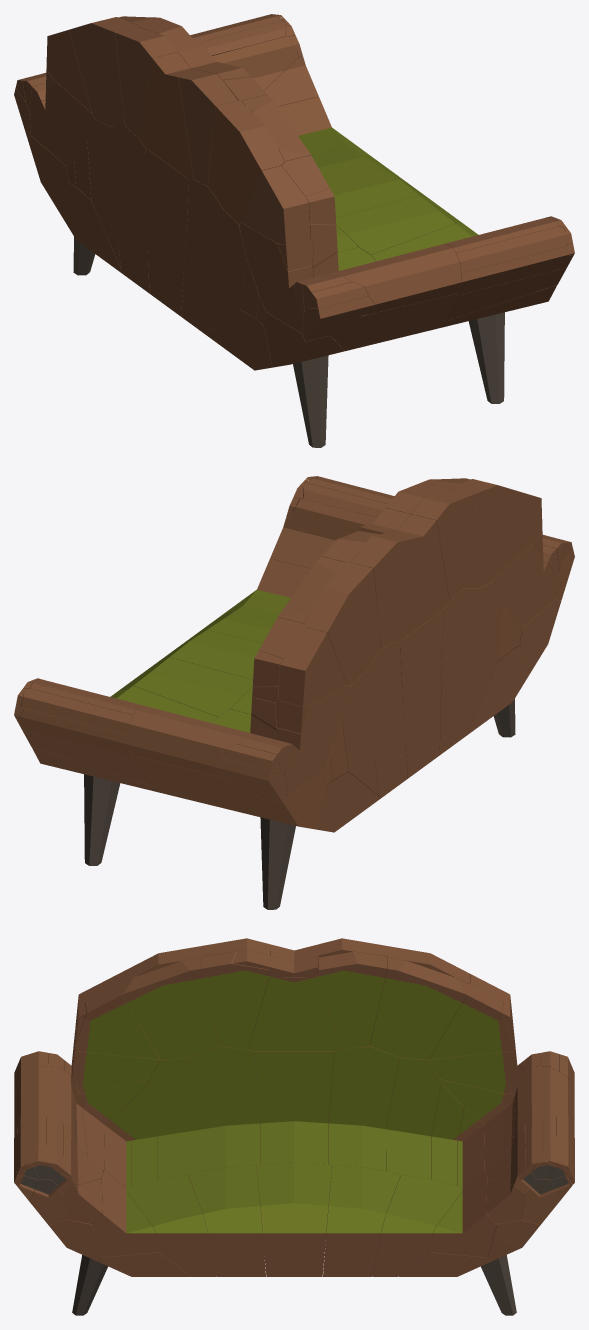
Rendered from couch-pieces.fbx.
3 renders of one model, top to bottom at view 1: azimuth 30°, elevation 25°; view 2: azimuth 150°, elevation 25°; view 3: azimuth 270°, elevation 25°, orthographic. The views are drawn at different scales.
Parts seen in each view (by area): view 1: couch_cell.058, couch_cell.086, couch_cell.030, couch_cell.078, couch_cell.028, couch_cell.008, couch_cell.006, couch_cell.077, couch_cell.060, couch_cell.063, couch_cell.085, couch_cell.079 (+39 smaller); view 2: couch_cell.006, couch_cell.038, couch_cell.030, couch_cell.028, couch_cell.078, couch_cell.008, couch_cell.058, couch_cell.027, couch_cell.010, couch_cell.013, couch_cell.031, couch_cell.037 (+39 smaller); view 3: couch_cell.030, couch_cell.029, couch_cell.028, couch_cell.078, couch_cell.007, couch_cell.059, couch_cell.027, couch_cell.077, couch_cell.039, couch_cell.075, couch_cell.025, couch_cell.026 (+46 smaller).
Part boxes in pixels (<box>): couch_cell.058: <box>208,100,284,223</box>; couch_cell.086: <box>313,243,461,315</box>; couch_cell.030: <box>145,147,188,316</box>; couch_cell.078: <box>181,179,358,336</box>; couch_cell.028: <box>109,126,149,293</box>; couch_cell.008: <box>139,52,203,179</box>; couch_cell.006: <box>69,17,138,126</box>; couch_cell.077: <box>336,195,469,254</box>; couch_cell.060: <box>241,166,309,244</box>; couch_cell.063: <box>239,223,313,333</box>; couch_cell.085: <box>331,293,457,351</box>; couch_cell.079: <box>178,71,237,186</box>; couch_cell.006: <box>304,562,380,685</box>; couch_cell.038: <box>127,705,275,777</box>; couch_cell.030: <box>400,609,443,778</box>; couch_cell.028: <box>230,641,407,798</box>; couch_cell.078: <box>439,588,479,755</box>; couch_cell.008: <box>385,514,449,641</box>; couch_cell.058: <box>450,479,519,588</box>; couch_cell.027: <box>118,657,252,716</box>; couch_cell.010: <box>279,628,347,706</box>; couch_cell.013: <box>275,685,349,795</box>; couch_cell.031: <box>350,533,410,648</box>; couch_cell.037: <box>131,755,257,813</box>; couch_cell.030: <box>254,1051,334,1164</box>; couch_cell.029: <box>256,1162,332,1276</box>; couch_cell.028: <box>328,1045,399,1190</box>; couch_cell.078: <box>189,1046,260,1182</box>; couch_cell.007: <box>370,957,467,1060</box>; couch_cell.059: <box>121,957,218,1060</box>; couch_cell.027: <box>323,1165,400,1276</box>; couch_cell.077: <box>188,1165,265,1276</box>; couch_cell.039: <box>248,965,340,1051</box>; couch_cell.075: <box>123,1175,216,1276</box>; couch_cell.025: <box>373,1175,465,1276</box>; couch_cell.026: <box>386,1057,441,1179</box>.
Bounding box in the file's own units: 2 × 2.26 × 4.12.
